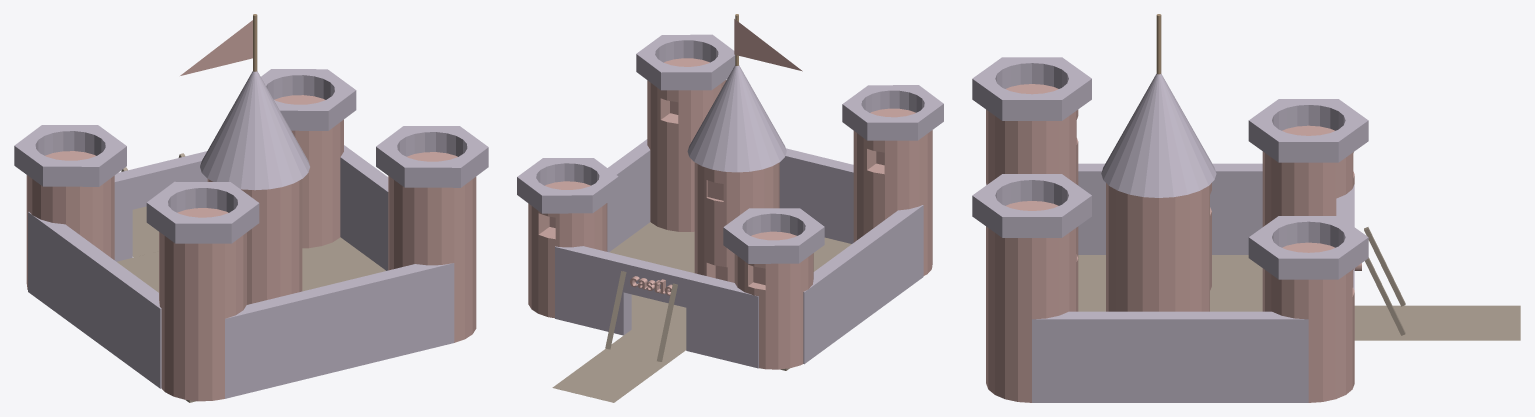
The model's file is ashley_castle.glb.
3 renders of one model, left to right at view 1: azimuth 30°, elevation 25°; view 2: azimuth 150°, elevation 25°; view 3: azimuth 270°, elevation 25°, orthographic. The views are drawn at different scales.
Visible parts, largest first — view 1: Mesh_Mesh_head_geo.001_lambert2SG.001; view 2: Mesh_Mesh_head_geo.001_lambert2SG.001; view 3: Mesh_Mesh_head_geo.001_lambert2SG.001.
Part boxes in pixels (x1,y1,x2,y2): Mesh_Mesh_head_geo.001_lambert2SG.001: [14, 14, 488, 402]; Mesh_Mesh_head_geo.001_lambert2SG.001: [517, 14, 943, 402]; Mesh_Mesh_head_geo.001_lambert2SG.001: [972, 14, 1520, 402].
Bounding box in the file's own units: 82 × 75 × 119.
